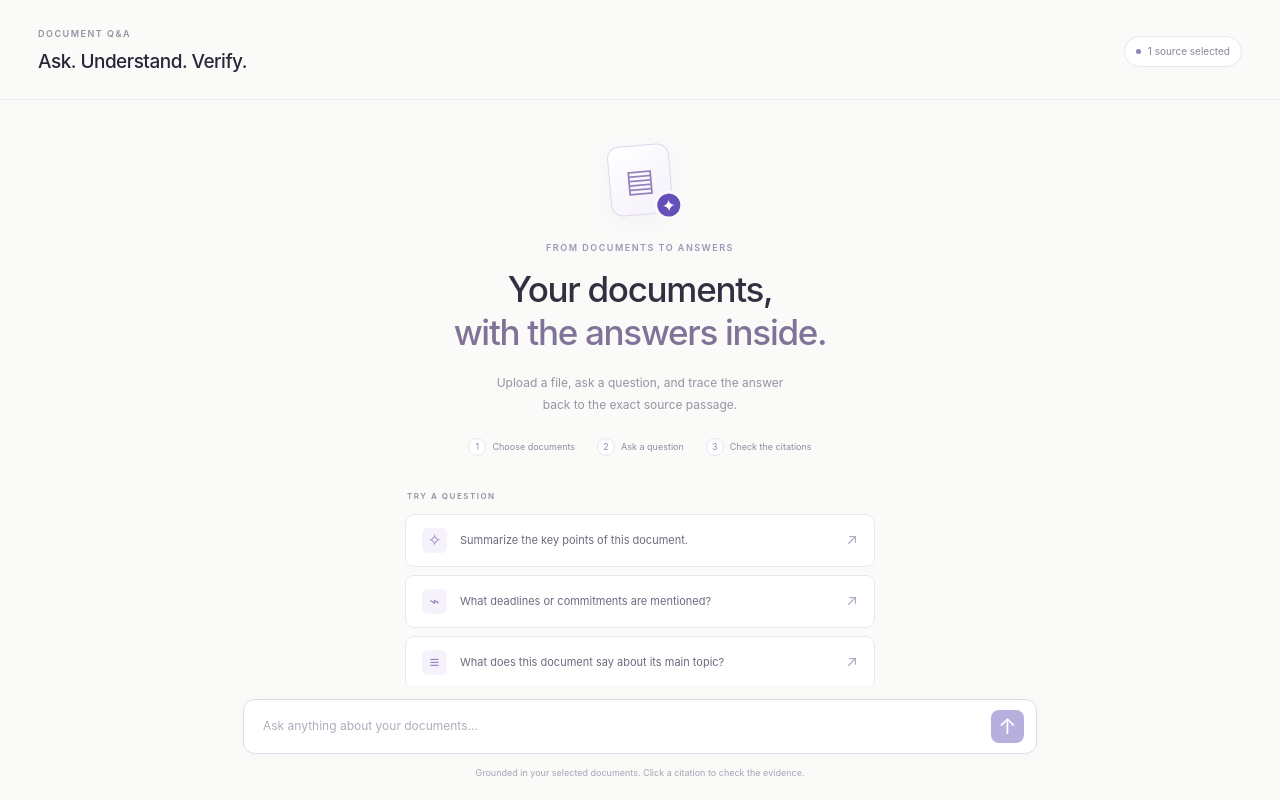
Test: replaces interrupted model output on reset instead of combining different answers
Step 1. Type "Test retry" into the text box → (622, 726), box [263,711,981,741]
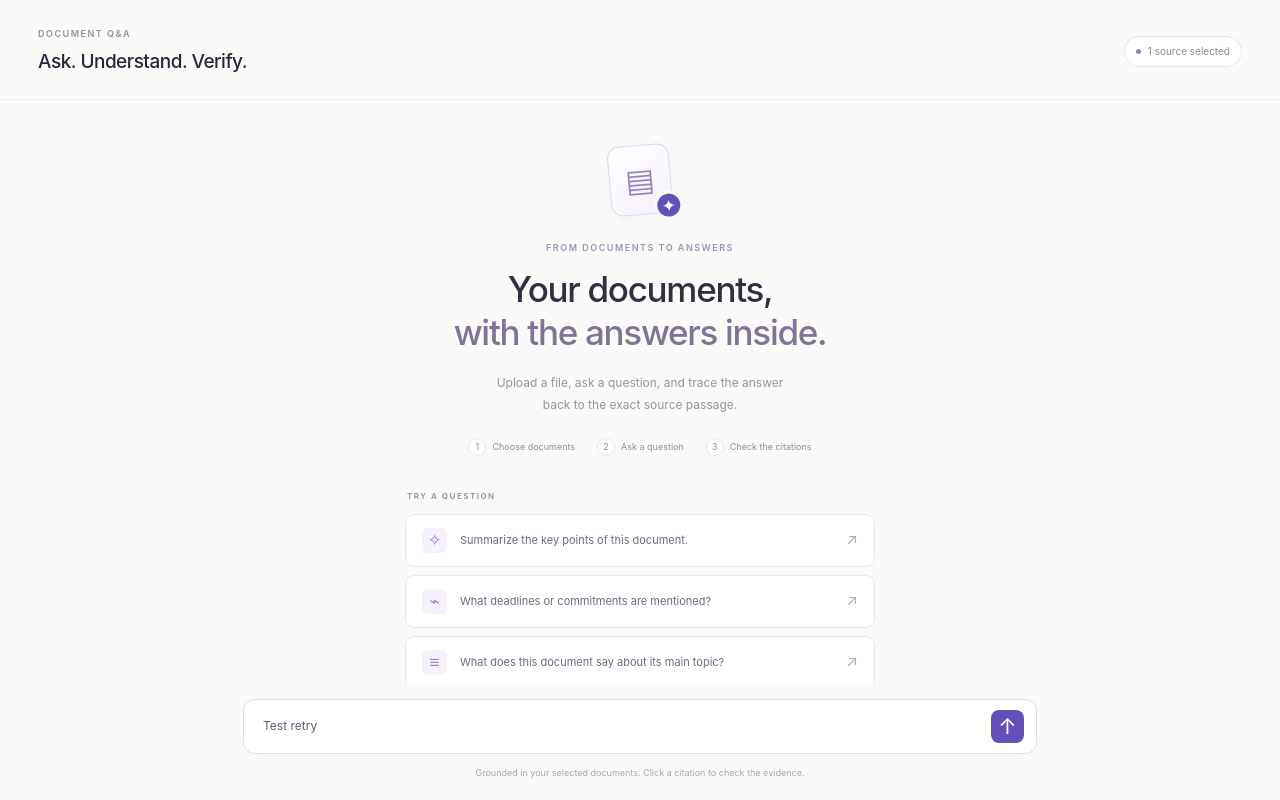
Step 2. Click the button named "Send question" → (1008, 726), box [991,710,1024,742]
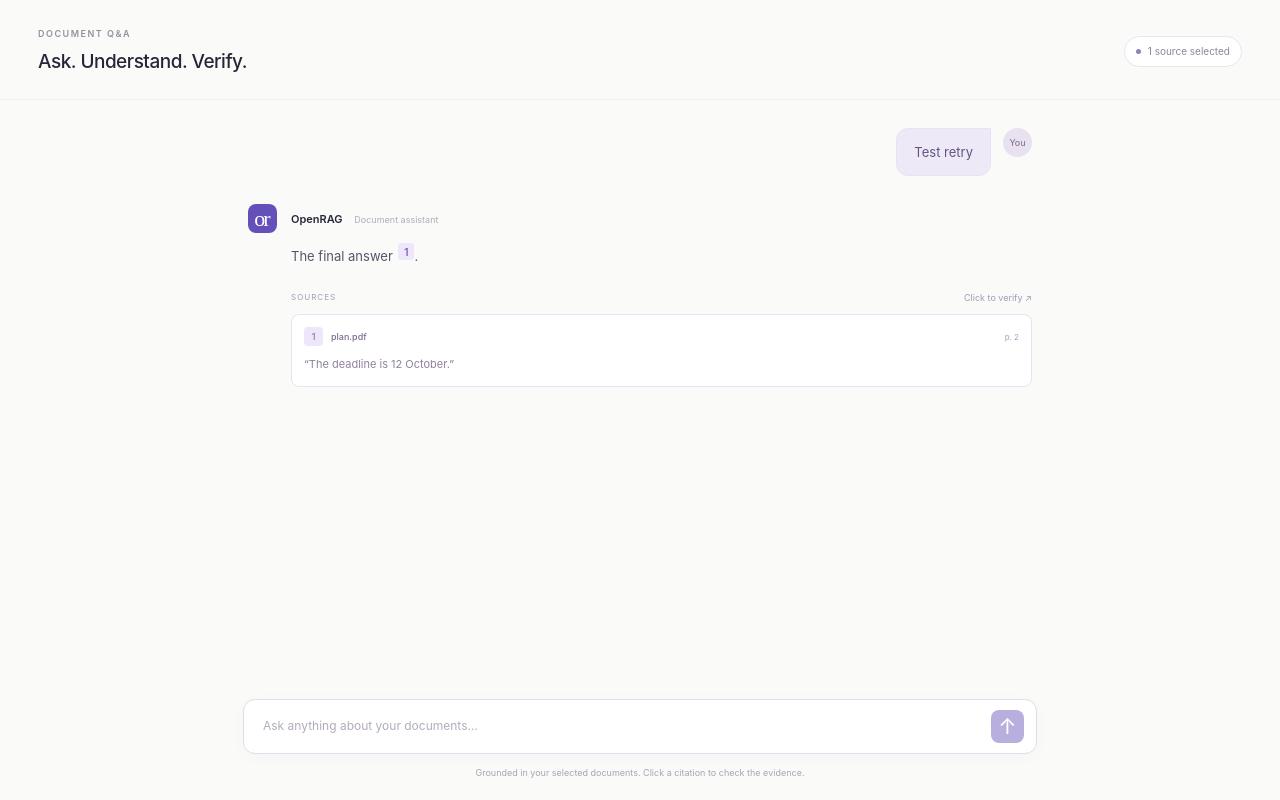
Result: the button named "Citation 1" is shown at [398,243,414,260]
Result: the text "The final answer" is shown at [291,248,396,264]
